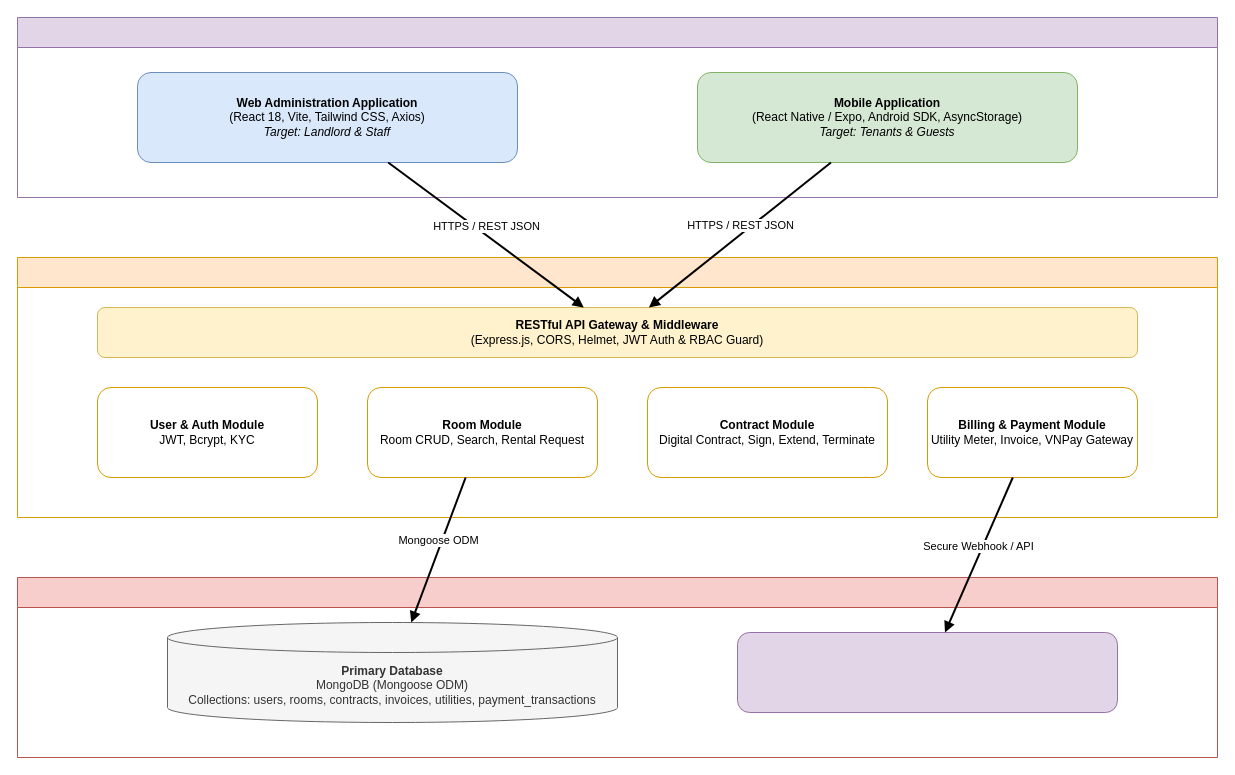
Some shapes in this 1235 by 775 pixel diagram are drawn without their labels. The shapes that lost their labels are listed below. From the top down, each one's box as (x1, y1, x2, y2) in pixels, then its label:
(16, 16, 1218, 198): CLIENT TIER (Presentation Layer)
(16, 256, 1218, 518): APPLICATION TIER (Backend RESTful API Layer)
(16, 576, 1218, 758): DATA & EXTERNAL SERVICES TIER
(736, 632, 1118, 712): External Payment Gateway VNPay Sandbox API (HMAC-SHA512 Signature & IPN Webhook)
